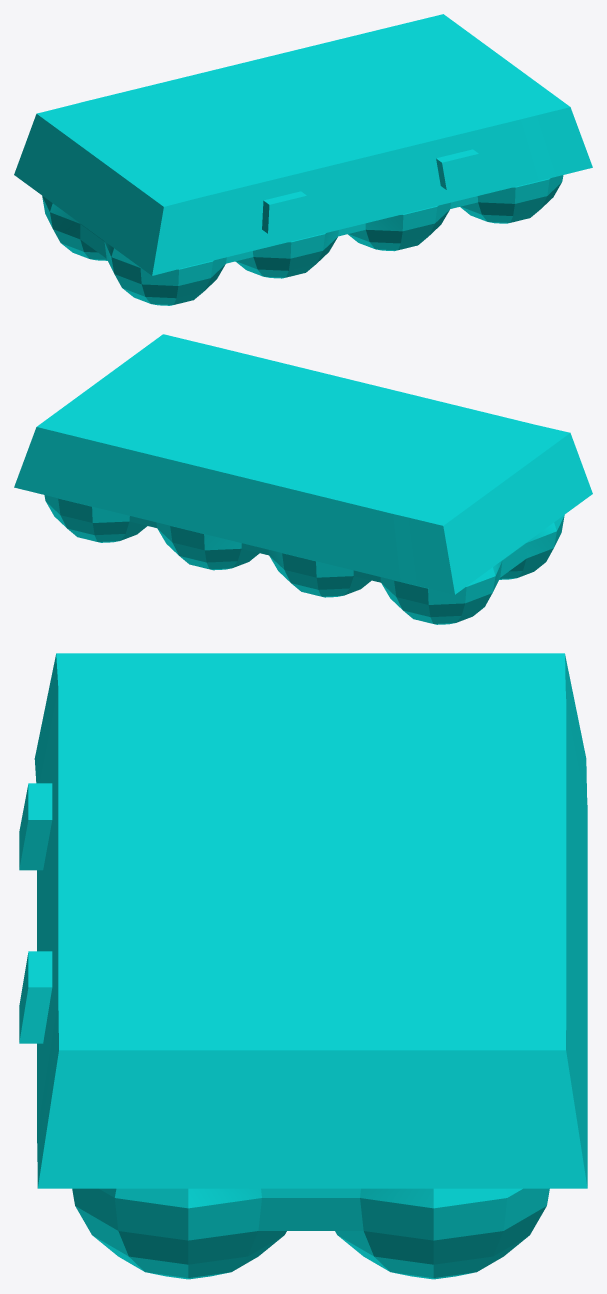
Rendered from egg_carton.fbx.
3 renders of one model, top to bottom at view 1: azimuth 30°, elevation 25°; view 2: azimuth 150°, elevation 25°; view 3: azimuth 270°, elevation 25°, orthographic. The views are drawn at different scales.
Parts seen in each view (by area): view 1: polySurface4; view 2: polySurface4; view 3: polySurface4.
Part boxes in pixels (left/top/right/bottom): polySurface4: left=14, top=14, right=592, bottom=305; polySurface4: left=14, top=334, right=592, bottom=624; polySurface4: left=19, top=653, right=587, bottom=1279.
Size of the model in its own units: 2.55 by 0.6913 by 1.41.
